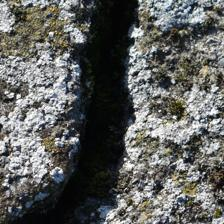Crack: (0, 0, 193, 172), (0, 70, 112, 182)
